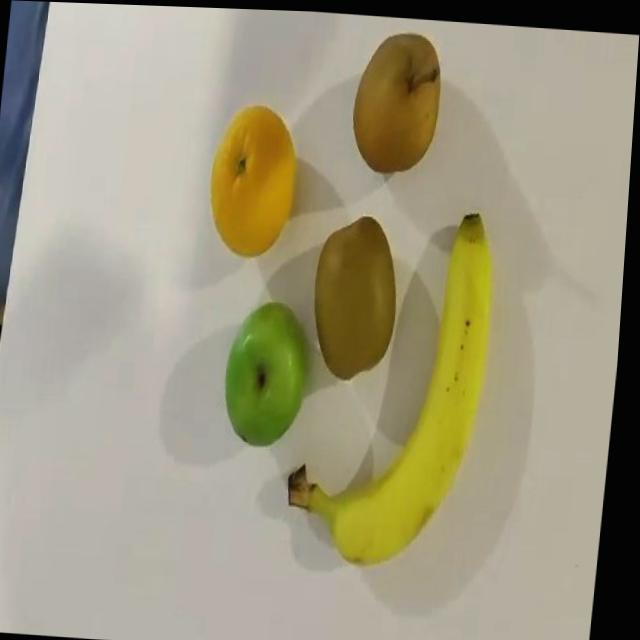Apple: (223, 297, 319, 448)
Banana: (286, 200, 504, 571)
Orange: (205, 100, 304, 259)
